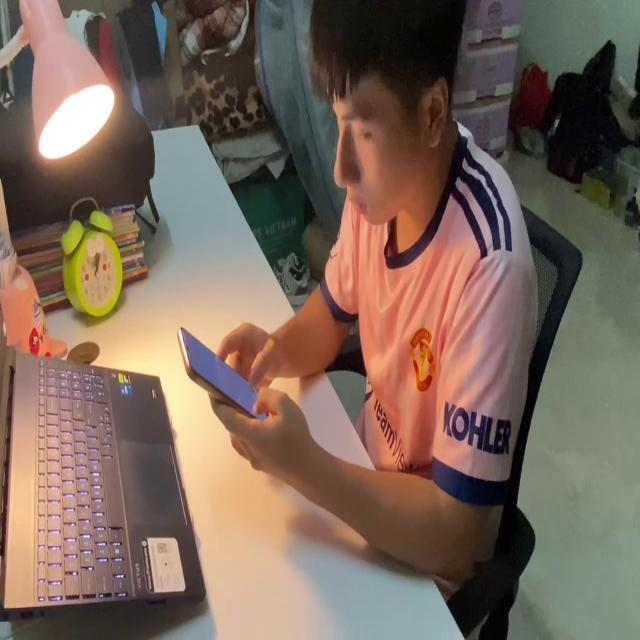laptop: (0, 302, 208, 606)
phone: (176, 317, 271, 420)
student: (210, 0, 538, 592)
